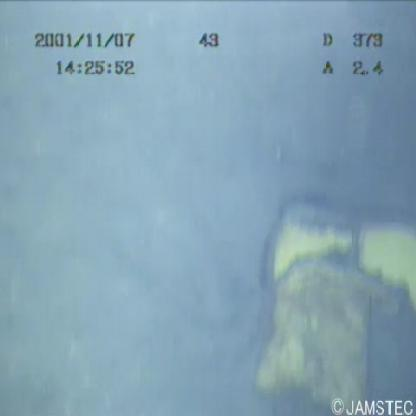Rác: (237, 198, 415, 398)
